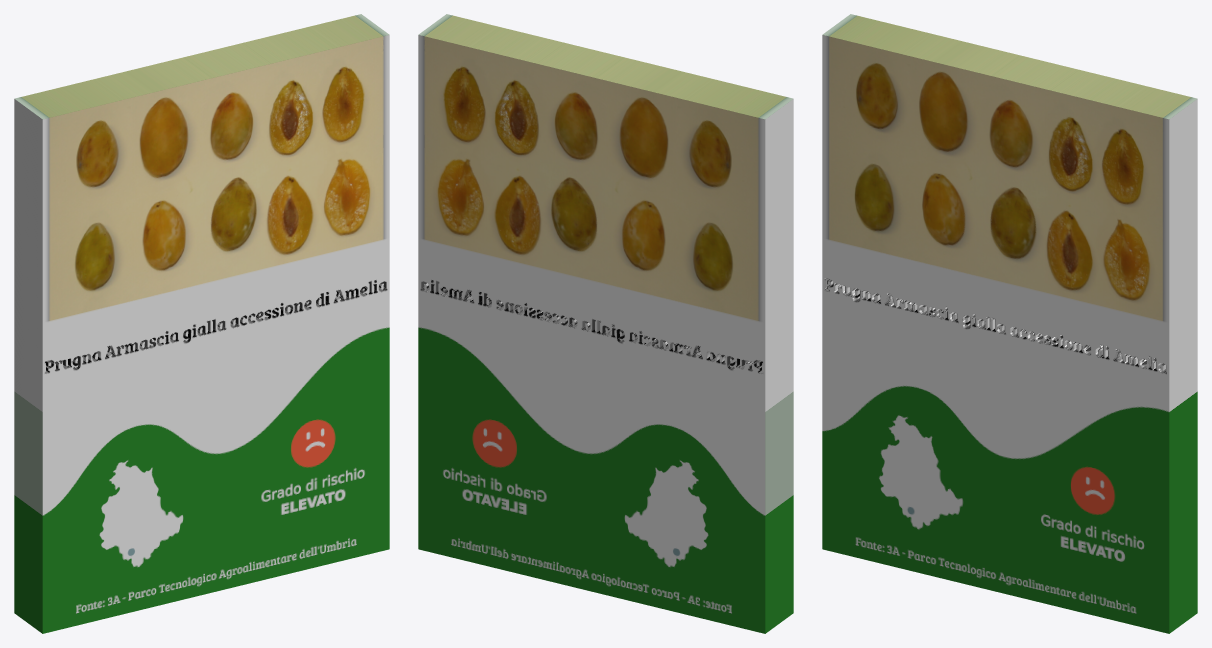
3 renders of one model, left to right at view 1: azimuth 30°, elevation 25°; view 2: azimuth 150°, elevation 25°; view 3: azimuth 330°, elevation 25°, orthographic.
Size of the model in its own units: 0.1542 by 0.2184 by 0.0219.
Materials: 1 (1 with a texture image).
